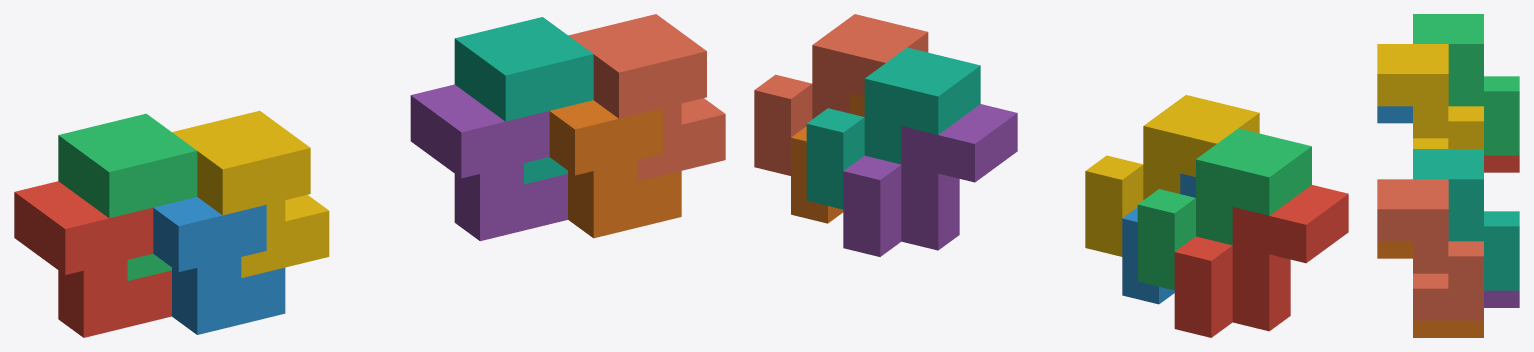
The model's file is tiling.obj.
The picture shows the model from 3 angles, left to right: view 1: azimuth 30°, elevation 25°; view 2: azimuth 150°, elevation 25°; view 3: azimuth 270°, elevation 25°; orthographic projection. The views are drawn at different scales.
Visible parts, largest first — view 1: copy_1_domain_1, copy_1_domain_5, copy_1_domain_4, copy_1_domain_8, copy_1_domain_2, copy_1_domain_6, copy_1_domain_3, copy_1_domain_7; view 2: copy_1_domain_1, copy_1_domain_5, copy_1_domain_7, copy_1_domain_3, copy_1_domain_4, copy_1_domain_8, copy_1_domain_2, copy_1_domain_6; view 3: copy_1_domain_8, copy_1_domain_4, copy_1_domain_7, copy_1_domain_3, copy_1_domain_6, copy_1_domain_1, copy_1_domain_2, copy_1_domain_5.
Part boxes in pixels (x1=…): copy_1_domain_1: x1=14, y1=181, x2=171, y2=337; copy_1_domain_5: x1=410, y1=84, x2=567, y2=241; copy_1_domain_4: x1=172, y1=110, x2=329, y2=277; copy_1_domain_8: x1=568, y1=14, x2=725, y2=181; copy_1_domain_2: x1=153, y1=197, x2=285, y2=334; copy_1_domain_6: x1=549, y1=100, x2=681, y2=238; copy_1_domain_3: x1=58, y1=113, x2=197, y2=280; copy_1_domain_7: x1=454, y1=17, x2=593, y2=184; copy_1_domain_1: x1=1174, y1=185, x2=1348, y2=337; copy_1_domain_5: x1=843, y1=104, x2=1017, y2=256; copy_1_domain_7: x1=806, y1=47, x2=980, y2=209; copy_1_domain_3: x1=1137, y1=128, x2=1311, y2=290; copy_1_domain_4: x1=1085, y1=95, x2=1259, y2=256; copy_1_domain_8: x1=754, y1=14, x2=928, y2=175; copy_1_domain_2: x1=1122, y1=173, x2=1195, y2=304; copy_1_domain_6: x1=791, y1=92, x2=864, y2=223; copy_1_domain_8: x1=1377, y1=179, x2=1483, y2=320; copy_1_domain_4: x1=1377, y1=44, x2=1483, y2=148; copy_1_domain_7: x1=1413, y1=149, x2=1519, y2=290; copy_1_domain_3: x1=1413, y1=14, x2=1519, y2=155; copy_1_domain_6: x1=1377, y1=241, x2=1483, y2=337; copy_1_domain_1: x1=1484, y1=155, x2=1519, y2=172; copy_1_domain_2: x1=1377, y1=106, x2=1412, y2=123; copy_1_domain_5: x1=1484, y1=290, x2=1519, y2=307.
Bounding box in the file's own units: 15 × 4 × 4.
